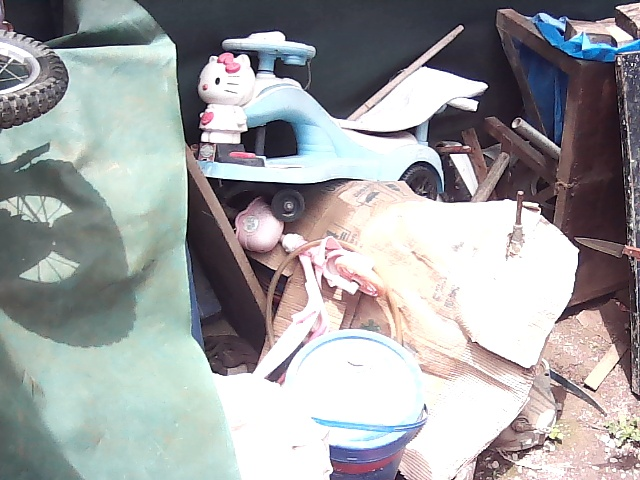cuchillo: (572, 232, 640, 266)
